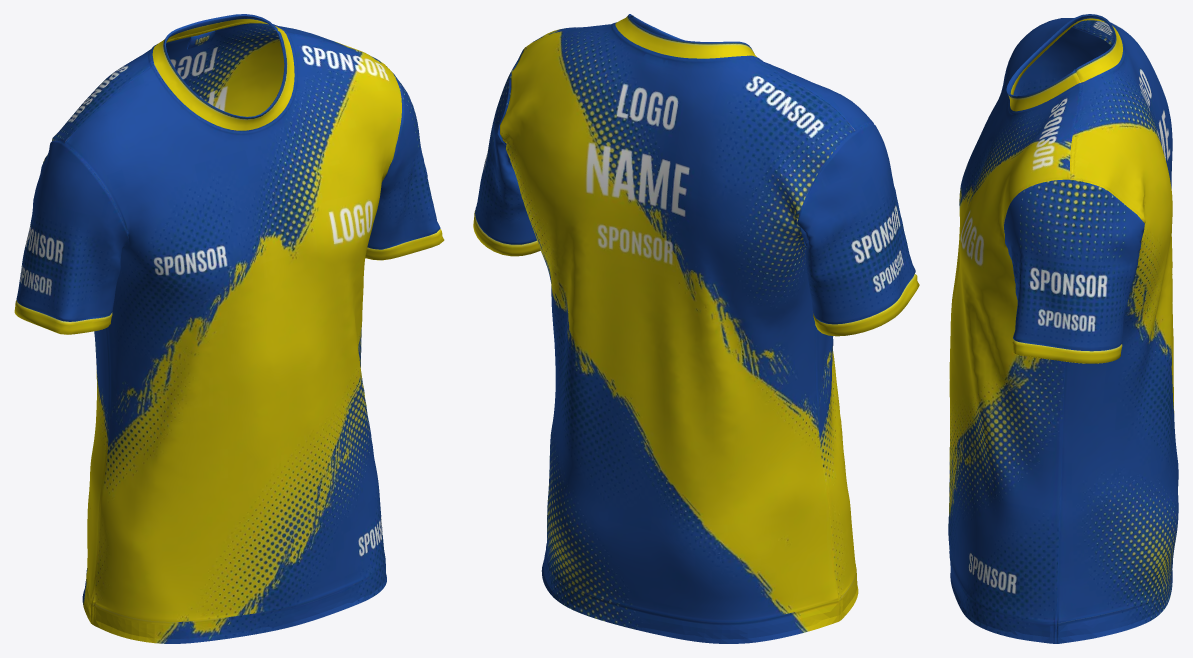
3 views of the same model, side by side, from view 1: azimuth 30°, elevation 25°; view 2: azimuth 150°, elevation 25°; view 3: azimuth 270°, elevation 25° (orthographic). The views are drawn at different scales.
Parts seen in each view (by area): view 1: jersey, bottom, collar, right_cuff, left_cuff; view 2: jersey, bottom, collar, right_cuff, left_cuff; view 3: jersey, bottom, collar, left_cuff.
Part boxes in pixels (x1,y1,x2,y2): jersey: (16, 23, 440, 625); bottom: (82, 563, 386, 643); collar: (152, 14, 294, 130); right_cuff: (14, 300, 112, 334); left_cuff: (365, 229, 444, 260); jersey: (475, 22, 915, 625); bottom: (541, 552, 858, 643); collar: (615, 14, 756, 58); right_cuff: (813, 274, 919, 336); left_cuff: (473, 210, 540, 256); jersey: (948, 18, 1178, 626); bottom: (950, 562, 1172, 643); collar: (1006, 14, 1122, 111); left_cuff: (1012, 340, 1122, 363).
Size of what is drawn, in the model's own units: 0.5437 by 0.71 by 0.2729.
Materials: 1 (1 with a texture image).
